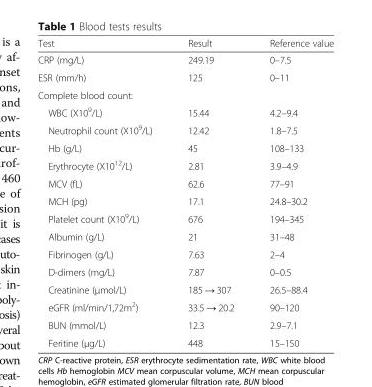table: (37, 37, 333, 348)
table column: (37, 37, 169, 348), (169, 37, 251, 348), (251, 37, 333, 348)
table column header: (37, 37, 333, 51)
table projected row header: (37, 85, 333, 102)
table row: (37, 120, 333, 139), (37, 155, 333, 174), (37, 297, 333, 316), (37, 102, 333, 120), (37, 174, 333, 192), (37, 209, 333, 227), (37, 227, 333, 245), (37, 262, 333, 280), (37, 51, 333, 68), (37, 68, 333, 85), (37, 85, 333, 102), (37, 192, 333, 209), (37, 245, 333, 262), (37, 280, 333, 297), (37, 316, 333, 333), (37, 139, 333, 155), (37, 333, 333, 348), (37, 37, 333, 51)
